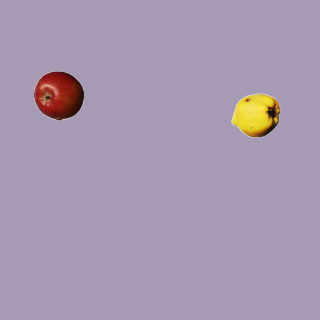Apple Braeburn: (33, 70, 83, 120)
Quince: (230, 90, 280, 140)
